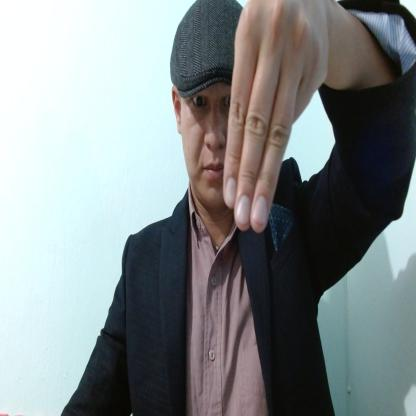M: (224, 0, 330, 233)
